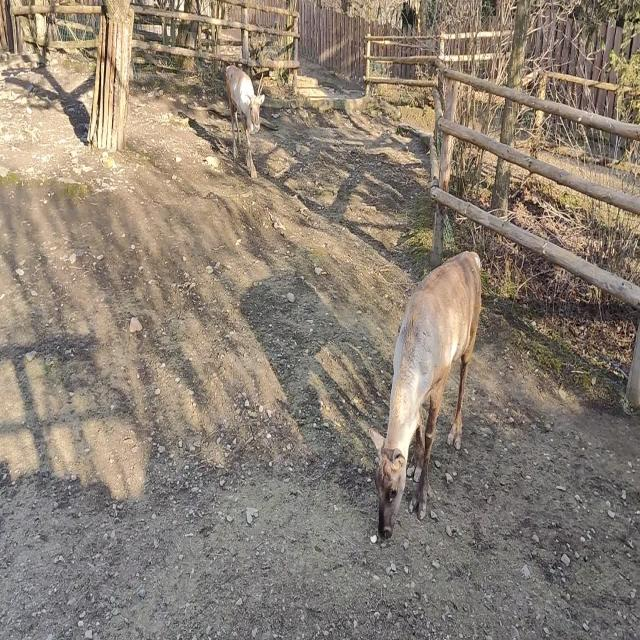deer: (369, 251, 482, 542), (226, 65, 265, 178)
